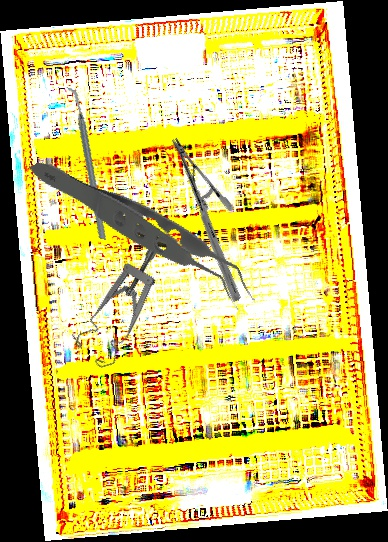Chopper: (34, 87, 138, 240)
Needle Holder: (117, 135, 295, 304)
Pusher: (41, 175, 193, 263)
Speculum: (52, 238, 202, 376)
Tissue Forceps: (28, 102, 257, 367)
